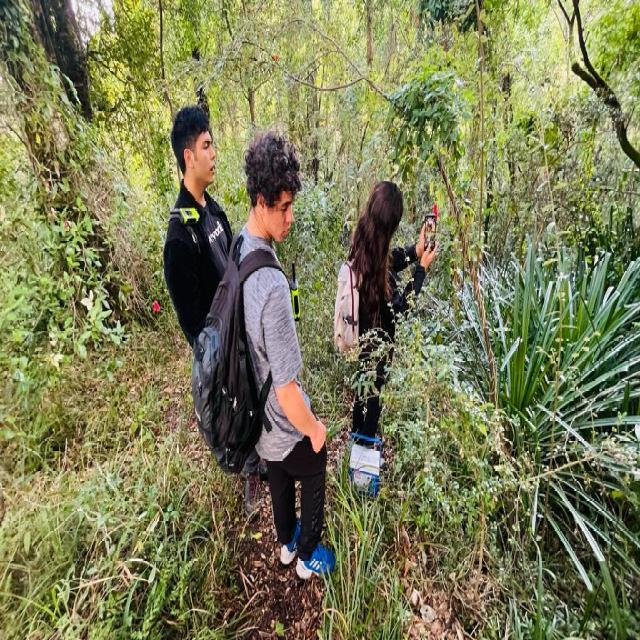person: (223, 135, 348, 584), (326, 154, 445, 435), (152, 99, 230, 345)
